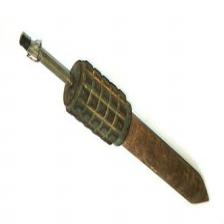POMZ2: (17, 20, 224, 224)
